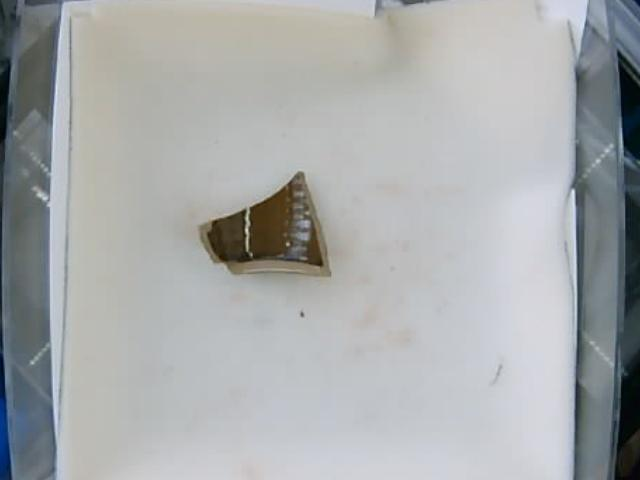China: (197, 172, 331, 282)
